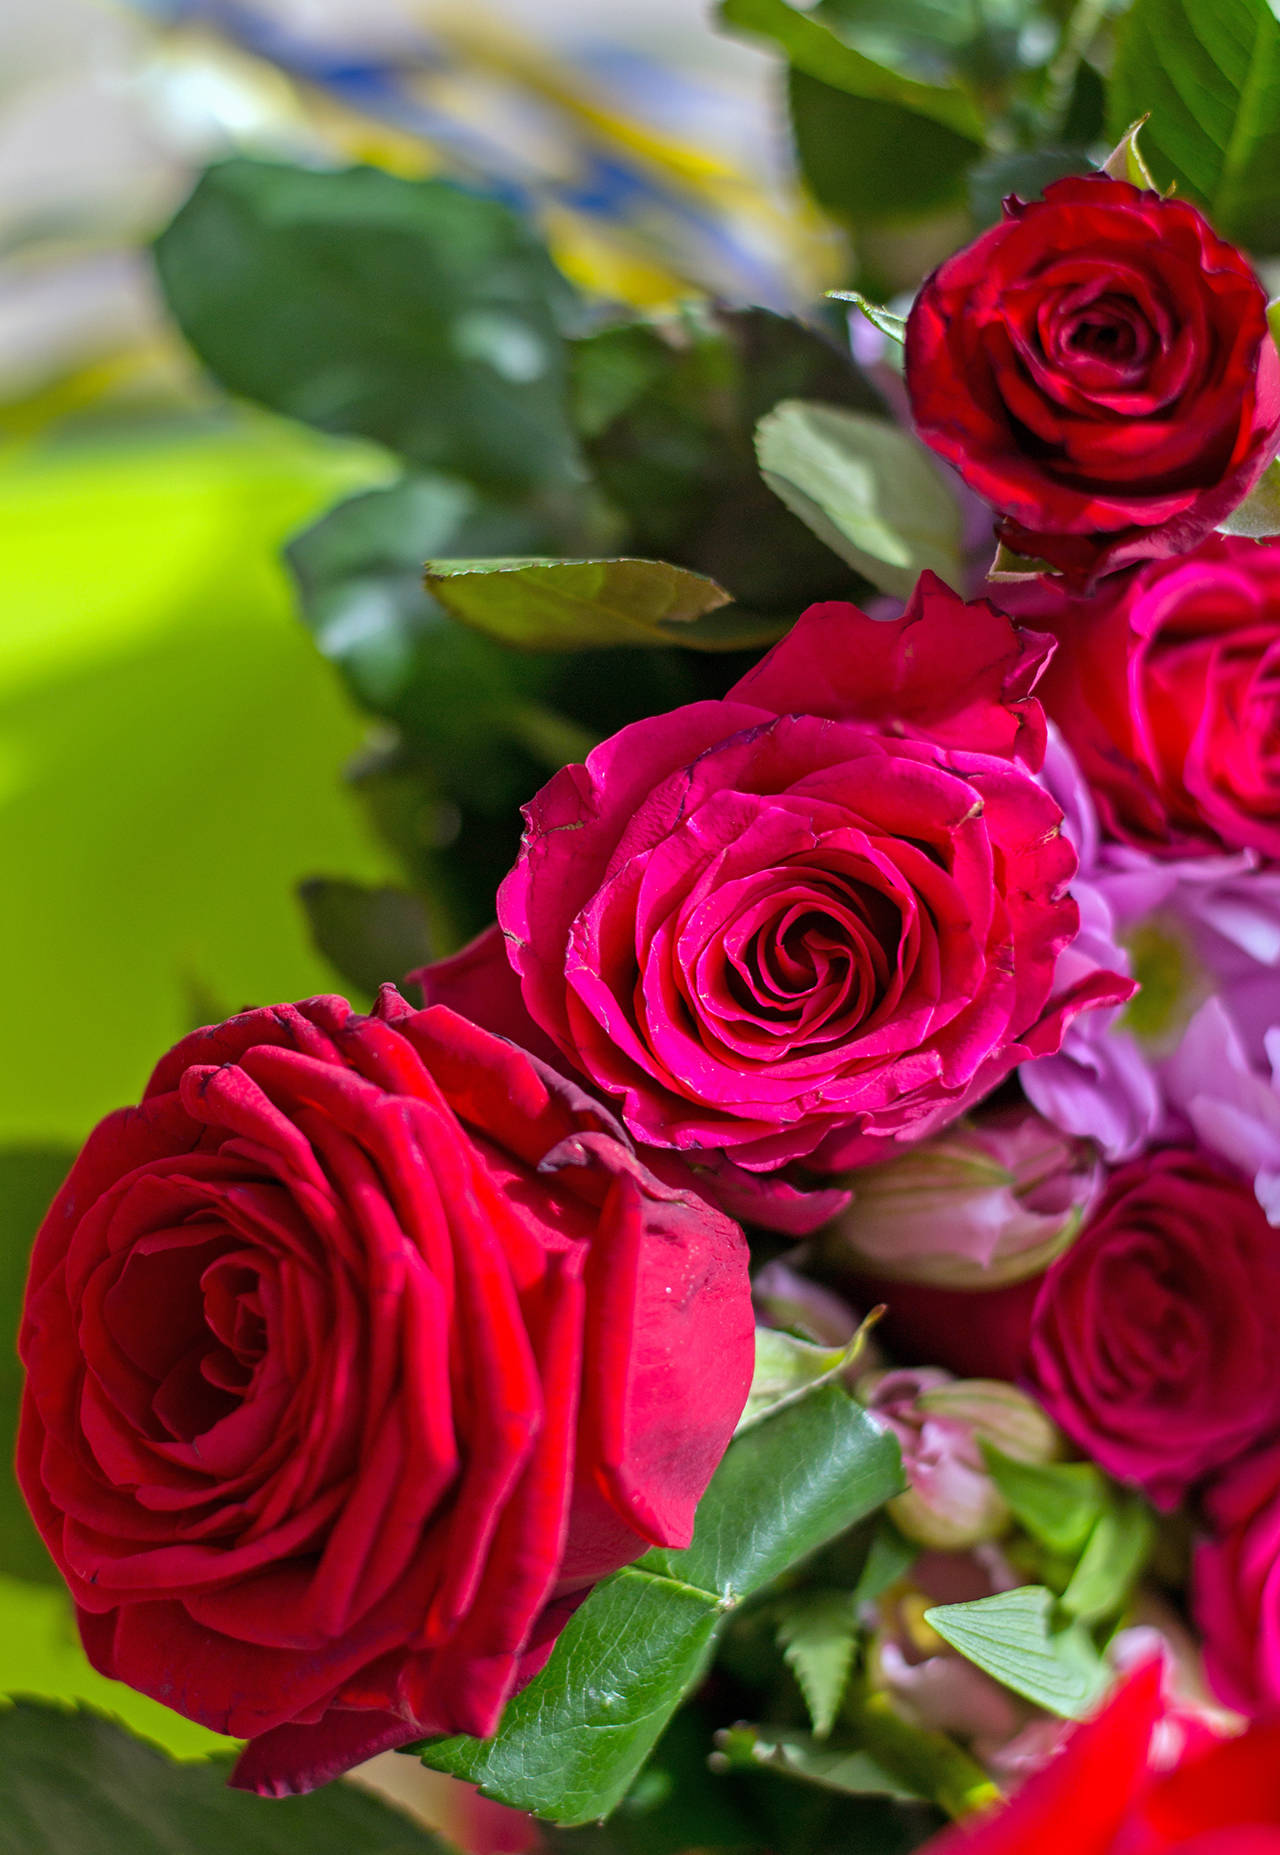rose: (18, 999, 765, 1769), (453, 591, 1084, 1153), (905, 166, 1279, 529), (1023, 1128, 1280, 1500), (1080, 555, 1280, 874)
